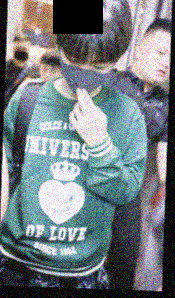with_mask: (57, 51, 113, 96), (12, 45, 30, 61)
without_mask: (141, 42, 170, 84), (39, 63, 61, 84)
